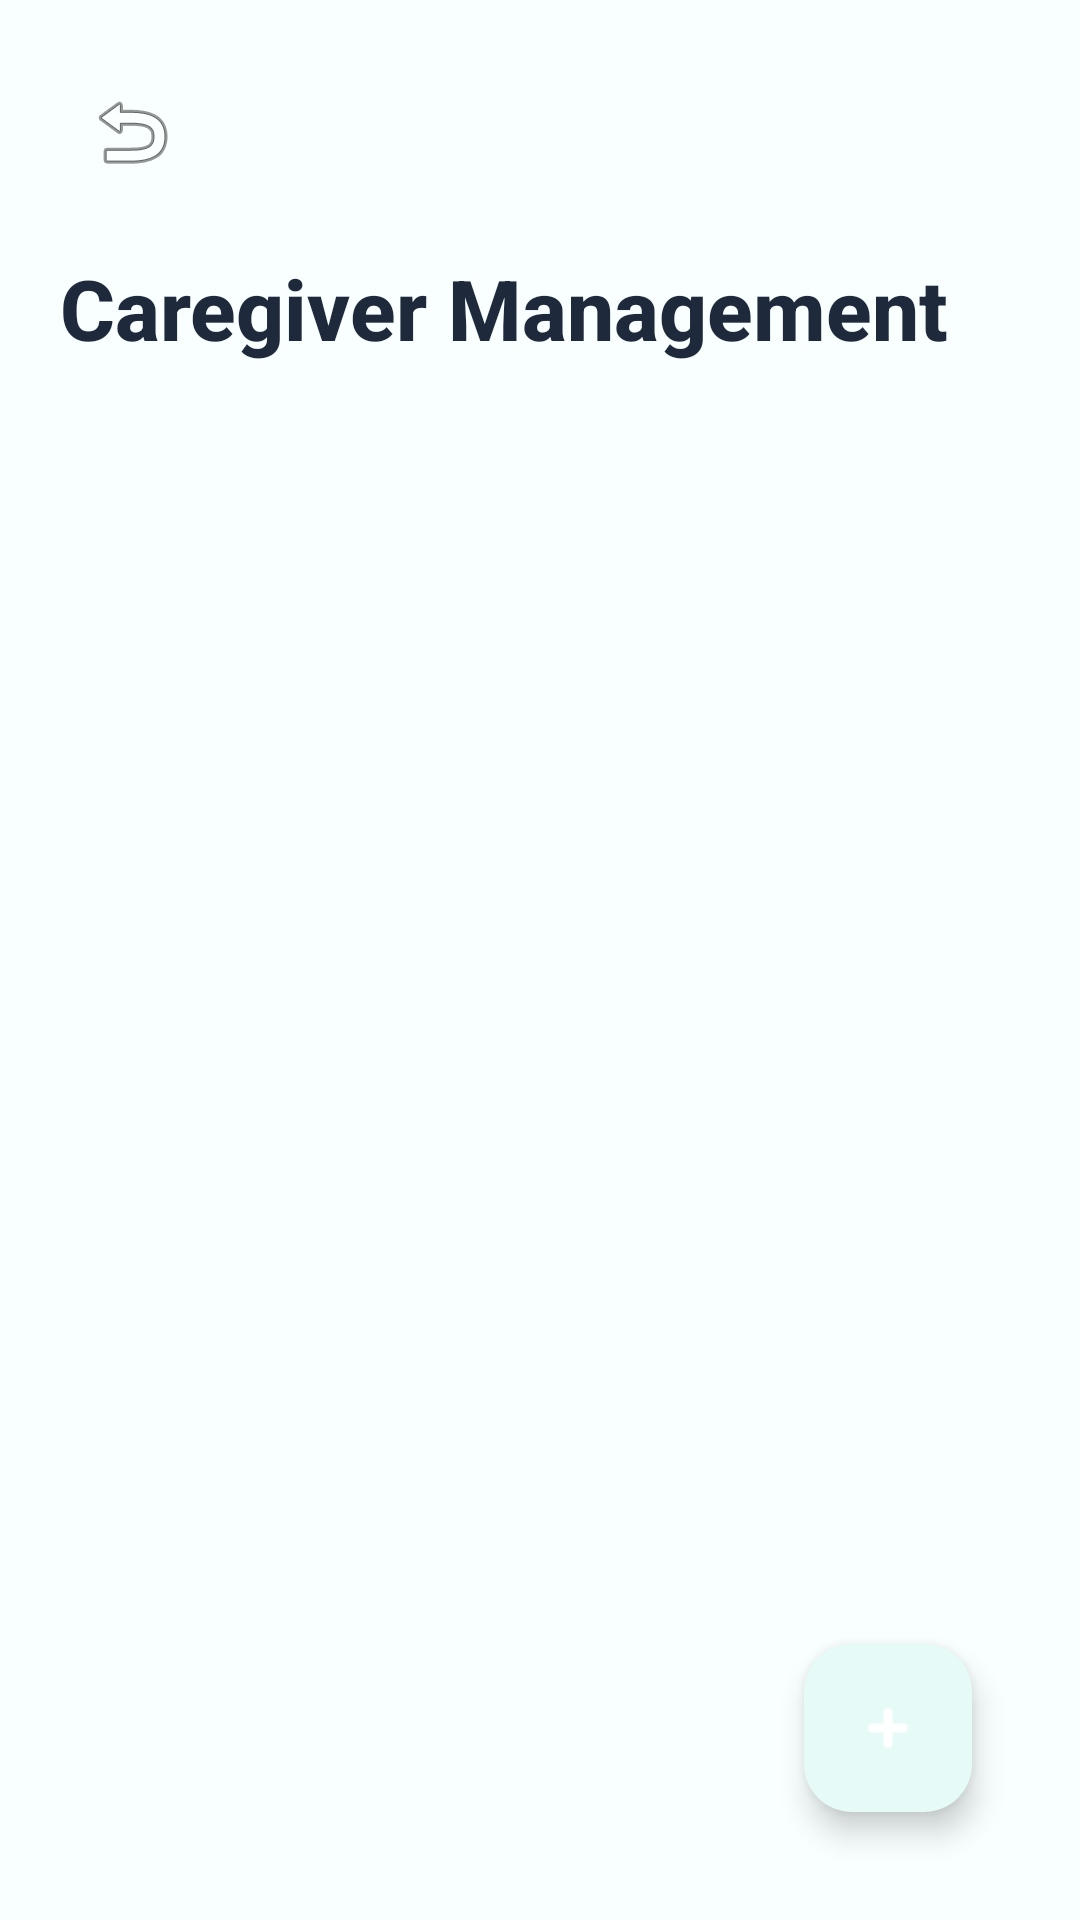

Screen size 1080px x 1920px. Icon name, then its box in pixels as [x1=x1, y1=y1, x2=x2, y2=y2]:
Add Caregiver: [x1=804, y1=1644, x2=972, y2=1812]
Back: [x1=99, y1=101, x2=168, y2=164]
